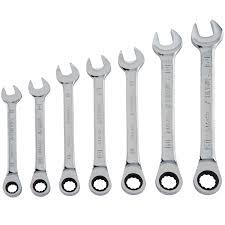wrench: (189, 18, 224, 195), (150, 27, 182, 195), (116, 44, 145, 194), (84, 52, 111, 195), (54, 60, 80, 195), (26, 76, 50, 196), (0, 83, 22, 197)
